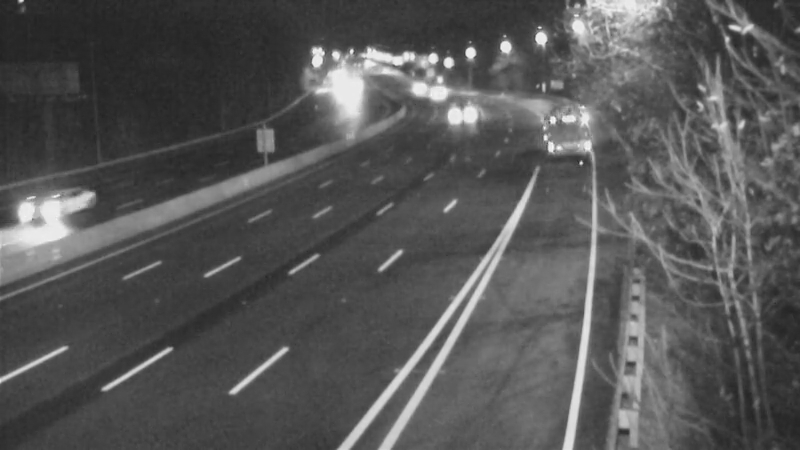vehicle: (10, 170, 90, 250), (384, 62, 434, 112), (405, 64, 455, 114), (539, 97, 589, 147), (436, 85, 486, 135), (317, 68, 367, 118)
